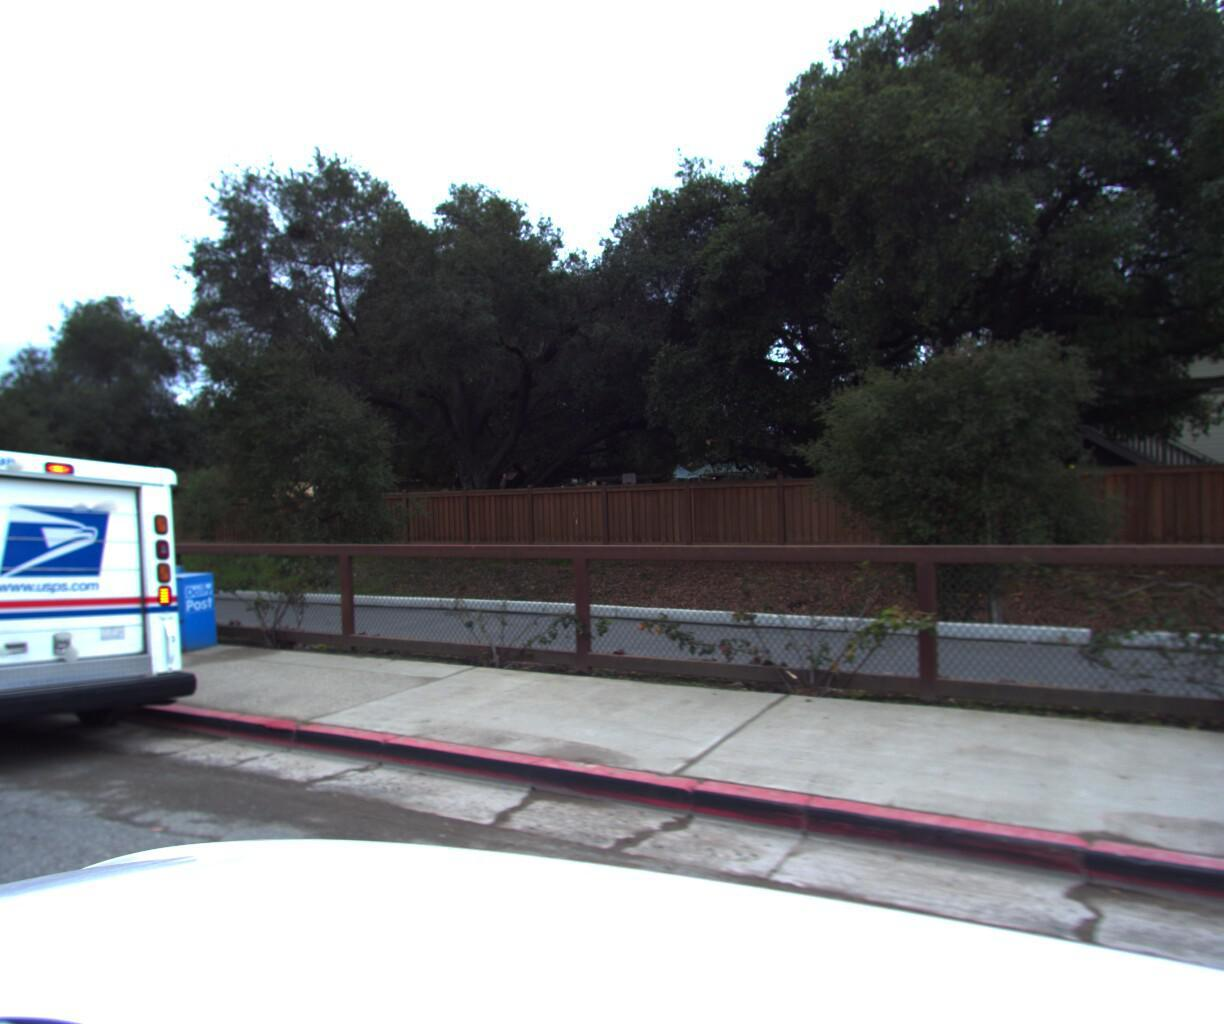other_vehicle: (0, 446, 217, 800)
